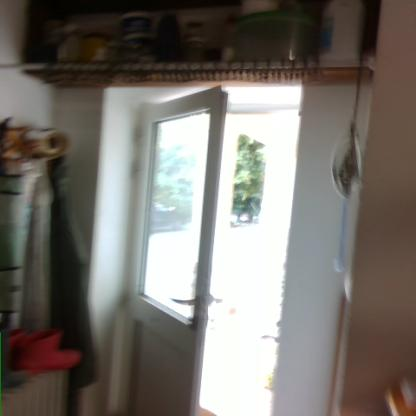semi: (106, 85, 322, 415)
